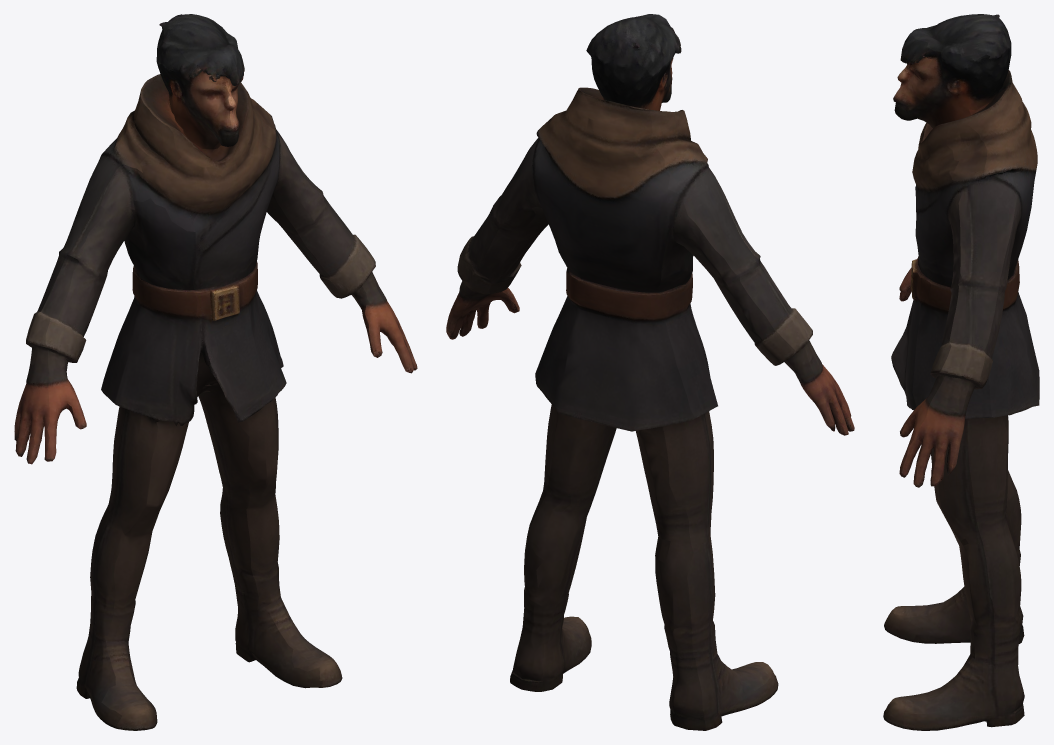
Rendered from dark_district_npc.glb.
3 renders of one model, left to right at view 1: azimuth 30°, elevation 25°; view 2: azimuth 150°, elevation 25°; view 3: azimuth 270°, elevation 25°, orthographic.
Visible parts, largest first — view 1: npcBody; view 2: npcBody; view 3: npcBody.
Boxes of the visible parts, x1,y1,x2,y2 form: npcBody: (14, 14, 417, 730); npcBody: (446, 14, 854, 730); npcBody: (883, 14, 1039, 730).
Bounding box in the file's own units: 1.12 × 1.8 × 0.3857.
Materials: 1 (1 with a texture image).
